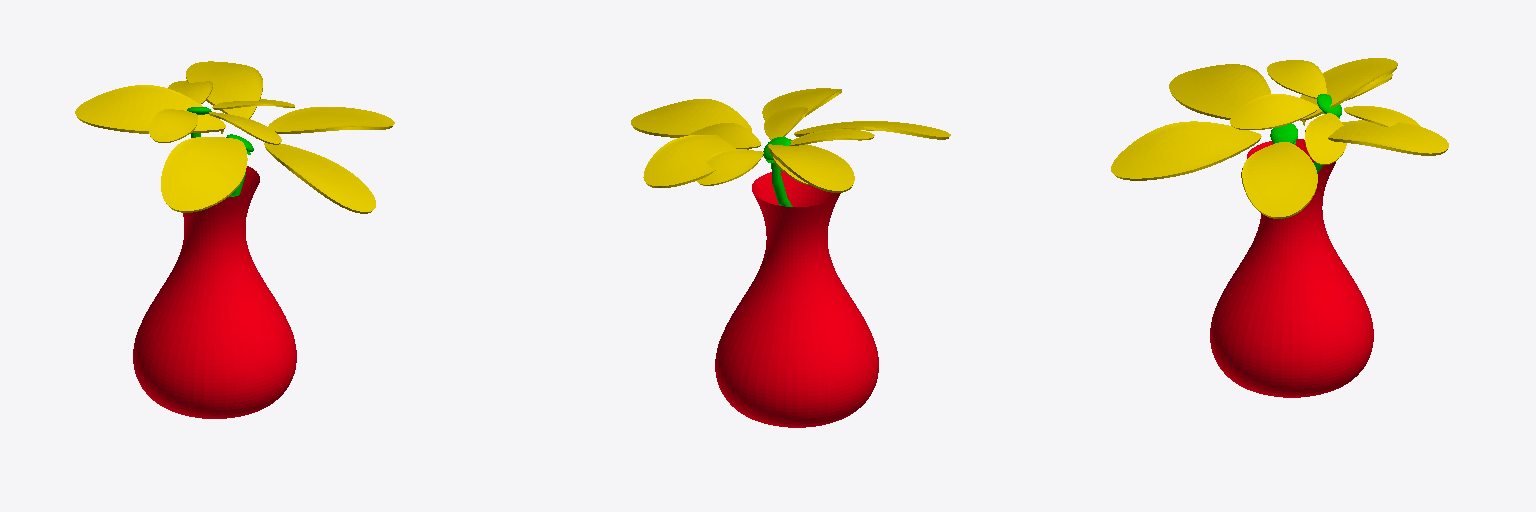
Rendered from vase.obj.
The picture shows the model from 3 angles: view 1: azimuth 30°, elevation 25°; view 2: azimuth 150°, elevation 25°; view 3: azimuth 270°, elevation 25°; orthographic projection.
Visible parts, largest first — view 1: NurbsPath_NurbsPath.002, Circle.001, Circle_Circle.002; view 2: NurbsPath_NurbsPath.002, Circle.001, Circle_Circle.002, Cube; view 3: NurbsPath_NurbsPath.002, Circle.001, Circle_Circle.002.
Part boxes in pixels (x1,y1,x2,y2): NurbsPath_NurbsPath.002: (133,166,296,418); Circle.001: (75,61,394,213); Circle_Circle.002: (148,80,294,144); NurbsPath_NurbsPath.002: (715,170,878,427); Circle.001: (631,88,950,192); Circle_Circle.002: (688,107,874,185); Cube: (763,137,792,206); NurbsPath_NurbsPath.002: (1210,139,1373,397); Circle.001: (1111,58,1448,218); Circle_Circle.002: (1230,60,1420,164).
Size of the model in its own units: 4.09 by 4.36 by 4.44.